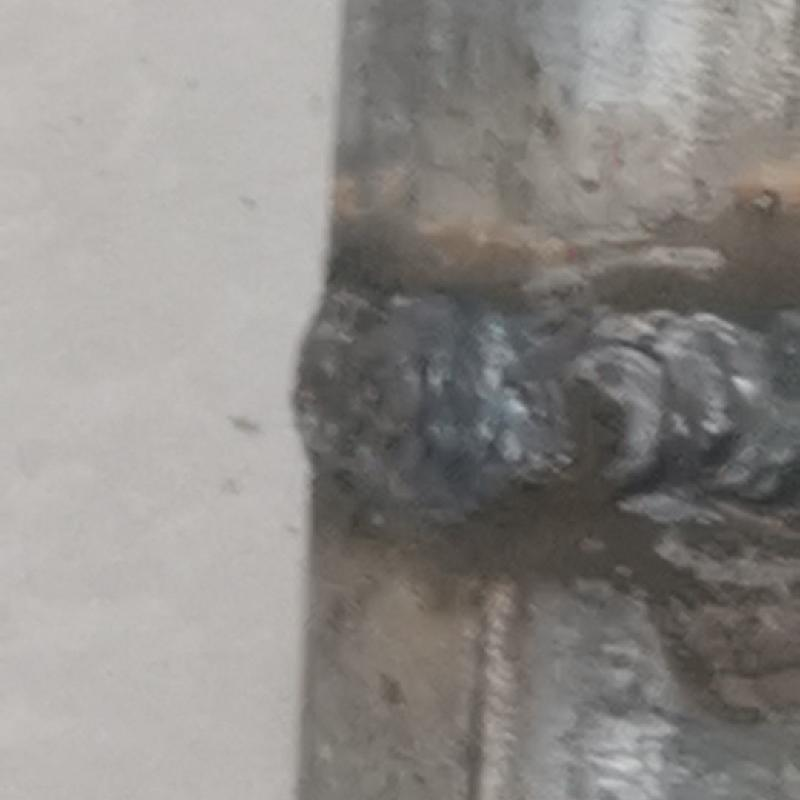good: (292, 280, 799, 514)
